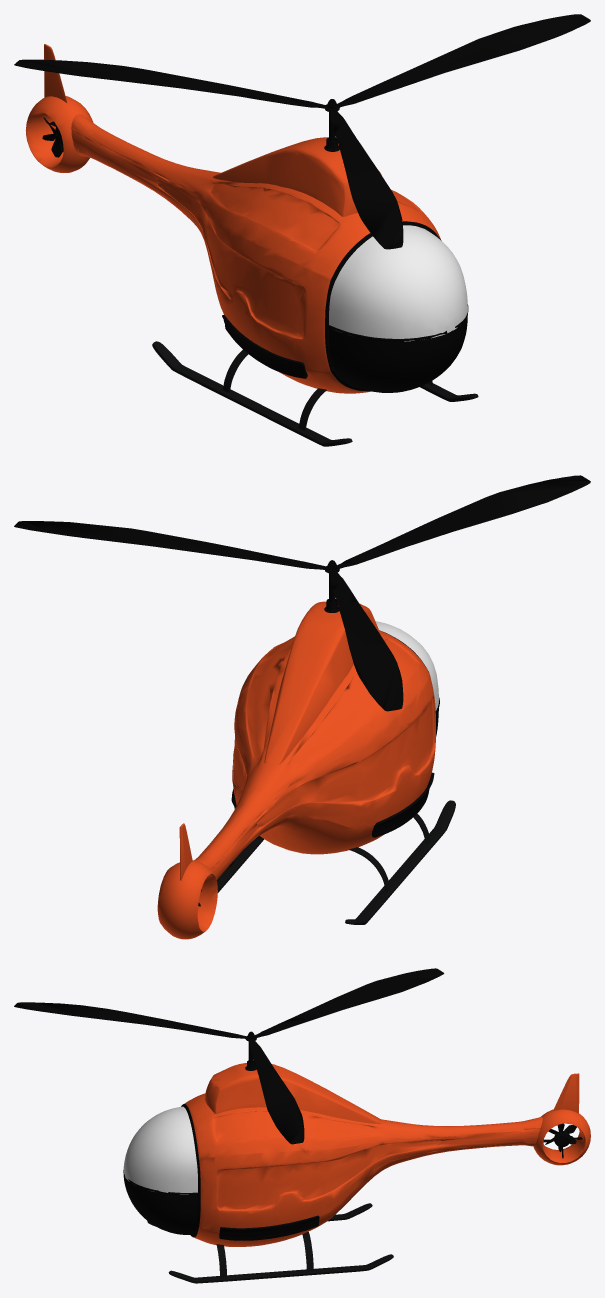
Rendered from heli.glb.
3 views of the same model, one above another, from view 1: azimuth 30°, elevation 25°; view 2: azimuth 150°, elevation 25°; view 3: azimuth 270°, elevation 25° (orthographic). The views are drawn at different scales.
Visible parts, largest first — view 1: HelicopterBody, Sphere, TopFin, TopEngine, StandPlane, BackWingsContainer, HelicopterBody.001, GlassGasket, Plane.001; view 2: HelicopterBody, TopFin, TopEngine, BackWingsContainer, StandPlane, Sphere, HelicopterBody.001; view 3: HelicopterBody, Sphere, TopFin, TopEngine, StandPlane, BackWingsContainer, HelicopterBody.001, Plane.001, GlassGasket.
Part boxes in pixels (x1,y1,x2,y2): HelicopterBody: (71, 114, 440, 393); Sphere: (328, 225, 467, 392); TopFin: (14, 14, 590, 249); TopEngine: (213, 137, 381, 216); StandPlane: (152, 341, 478, 446); BackWingsContainer: (25, 96, 93, 172); HelicopterBody.001: (222, 315, 307, 378); GlassGasket: (325, 221, 441, 391); Plane.001: (44, 44, 67, 102); HelicopterBody: (194, 630, 435, 879); TopFin: (14, 475, 590, 711); TopEngine: (264, 601, 380, 765); BackWingsContainer: (157, 860, 217, 939); StandPlane: (216, 800, 455, 924); Sphere: (375, 621, 438, 736); HelicopterBody.001: (231, 772, 434, 837); HelicopterBody: (184, 1093, 542, 1246); Sphere: (123, 1106, 197, 1235); TopFin: (14, 968, 444, 1144); TopEngine: (205, 1063, 382, 1123); StandPlane: (147, 1203, 393, 1283); BackWingsContainer: (533, 1109, 590, 1165); HelicopterBody.001: (219, 1215, 319, 1240); Plane.001: (553, 1073, 579, 1113); GlassGasket: (181, 1104, 200, 1237).
Bounding box in the file's own units: 3.66 × 2.15 × 5.11.
